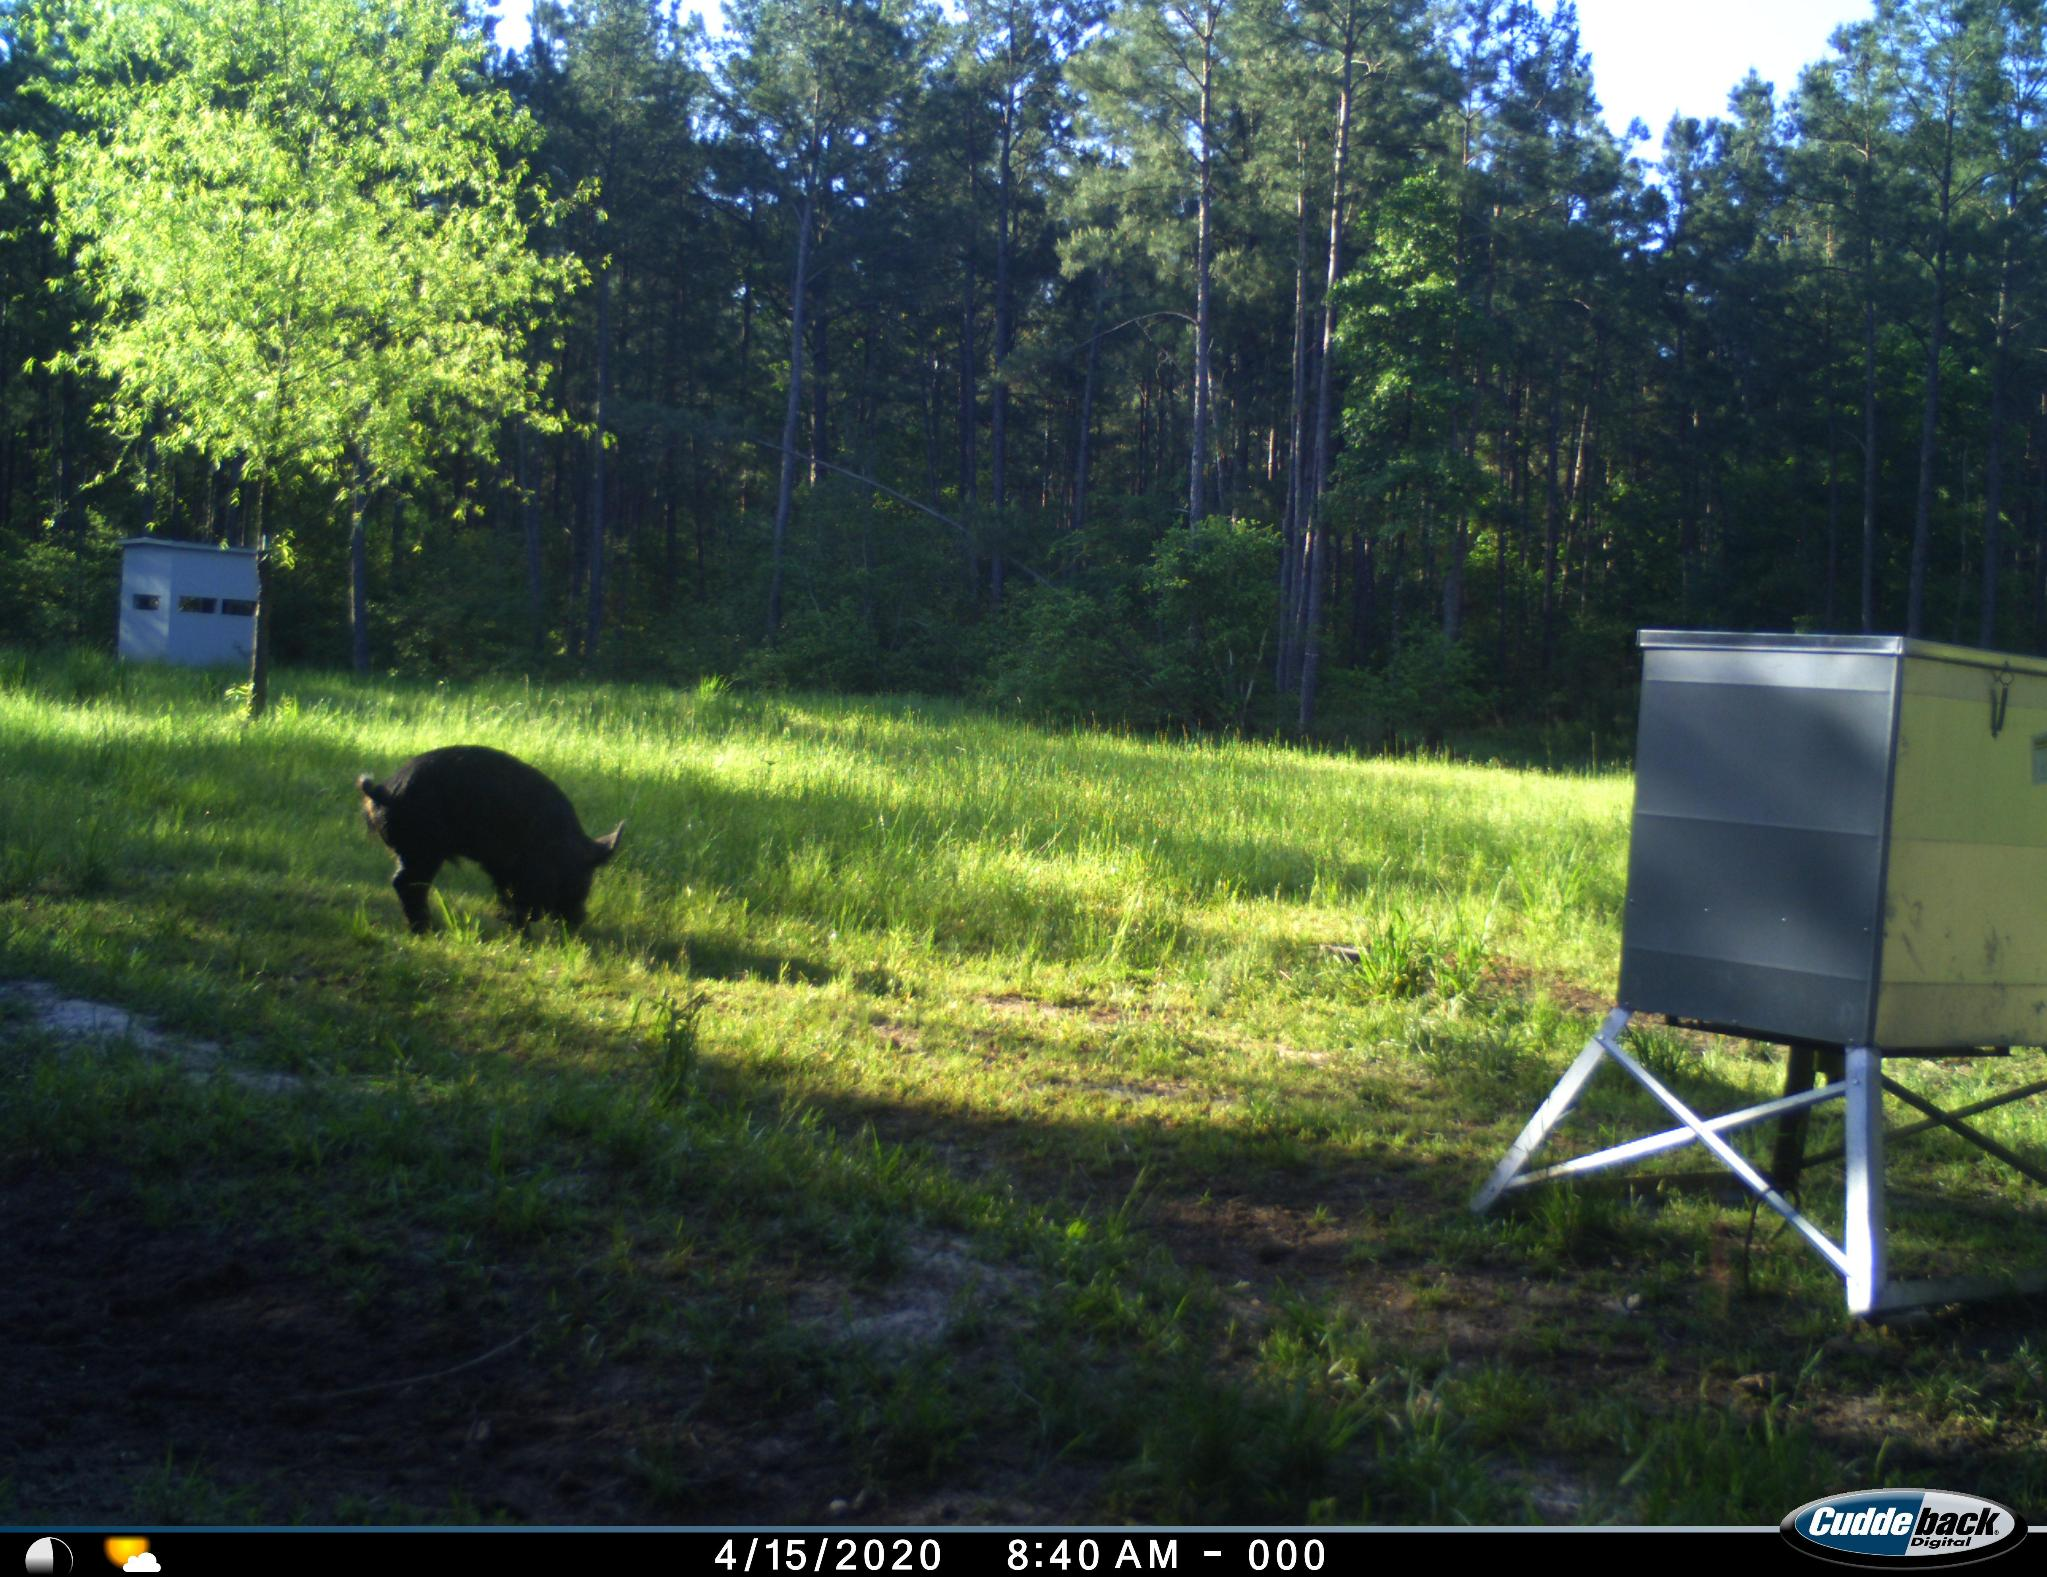Hog: (344, 742, 644, 954)
